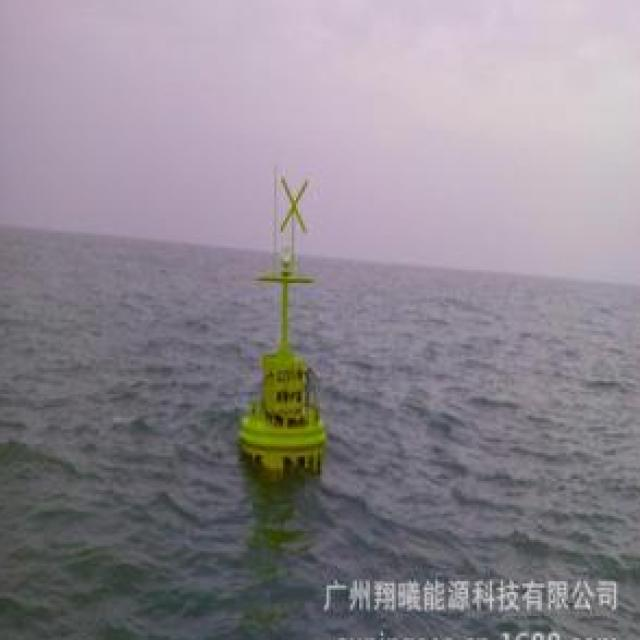buoy: (229, 156, 335, 478)
